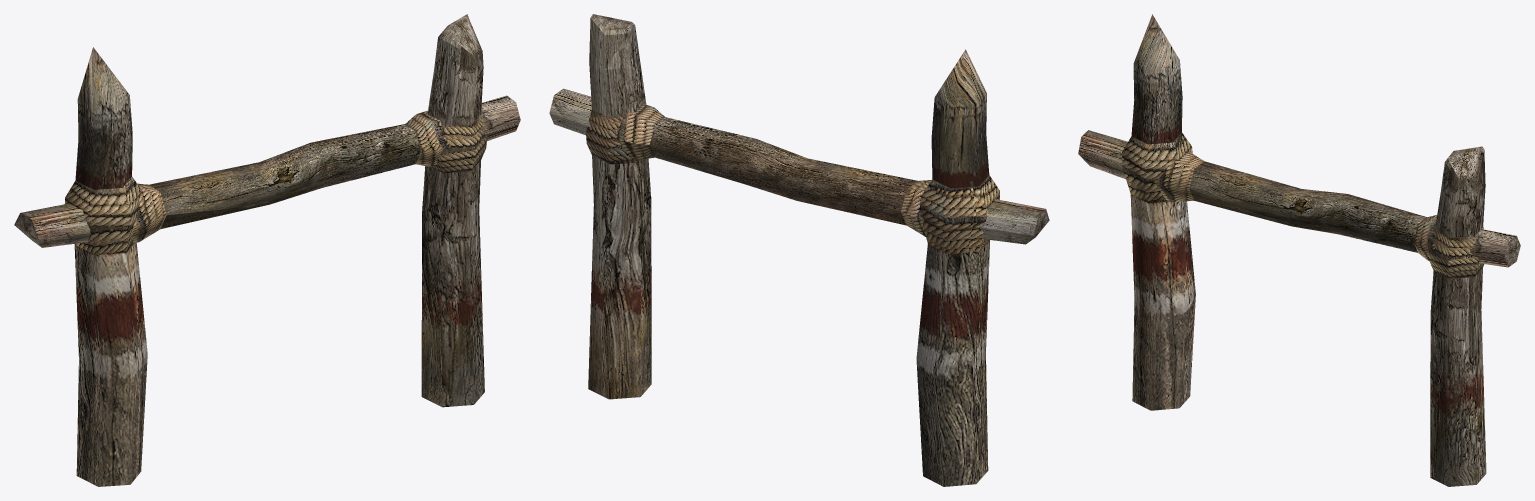
Rendered from Fence02.FBX.
The picture shows the model from 3 angles, left to right: view 1: azimuth 30°, elevation 25°; view 2: azimuth 150°, elevation 25°; view 3: azimuth 330°, elevation 25°; orthographic projection. The views are drawn at different scales.
Parts seen in each view (by area): view 1: LV_TurtleLake_LakeTower_Fence02_SM_KSR; view 2: LV_TurtleLake_LakeTower_Fence02_SM_KSR; view 3: LV_TurtleLake_LakeTower_Fence02_SM_KSR.
Boxes of the visible parts, x1,y1,x2,y2 form: LV_TurtleLake_LakeTower_Fence02_SM_KSR: (14, 14, 520, 486); LV_TurtleLake_LakeTower_Fence02_SM_KSR: (549, 14, 1049, 486); LV_TurtleLake_LakeTower_Fence02_SM_KSR: (1078, 14, 1520, 486).
Size of the model in its own units: 40.72 by 34.29 by 6.13.
